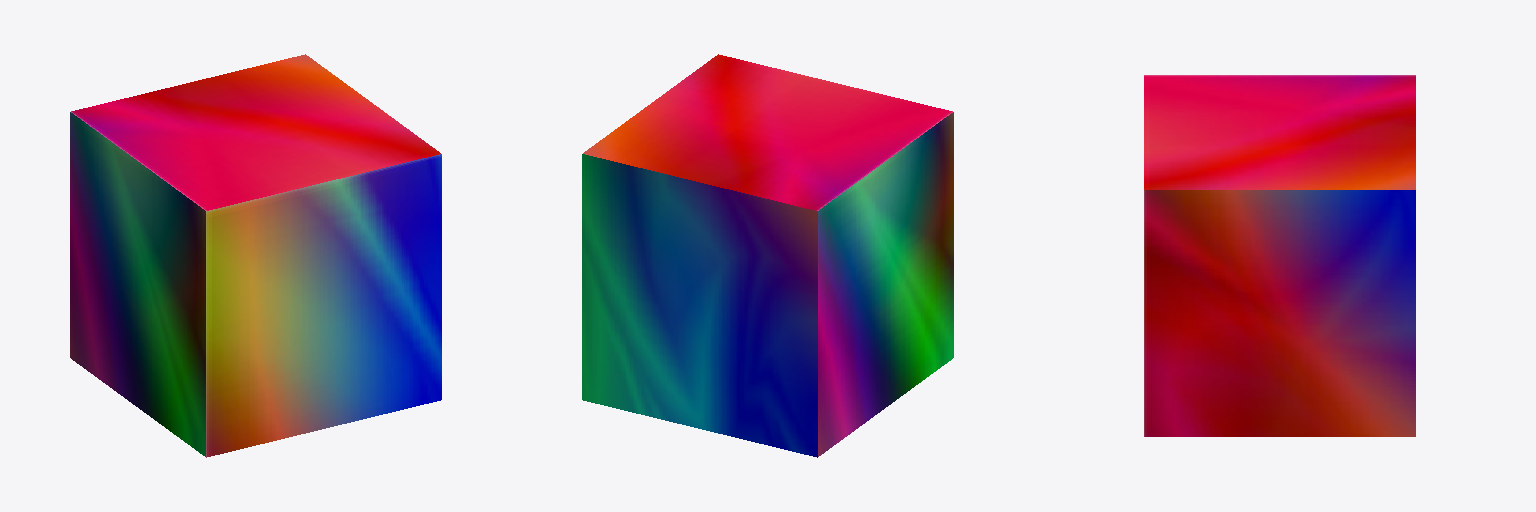
The picture shows the model from 3 angles: view 1: azimuth 30°, elevation 25°; view 2: azimuth 150°, elevation 25°; view 3: azimuth 270°, elevation 25°; orthographic projection.
Parts seen in each view (by area): view 1: Cube; view 2: Cube; view 3: Cube.
Part boxes in pixels (x1,y1,x2,y2): Cube: (70,54,441,457); Cube: (582,54,953,457); Cube: (1144,75,1415,436).
Bounding box in the file's own units: 2 × 2 × 2.
1 materials, 1 textured.